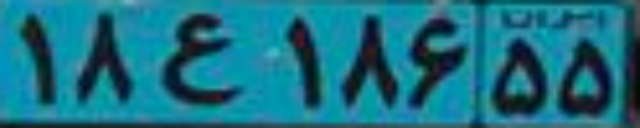1: (284, 15, 324, 108), (19, 14, 56, 103)
5: (552, 36, 613, 117), (486, 36, 548, 114)
6: (407, 16, 466, 108)
8: (338, 14, 397, 108), (77, 14, 133, 104)
ain: (160, 13, 238, 104)
